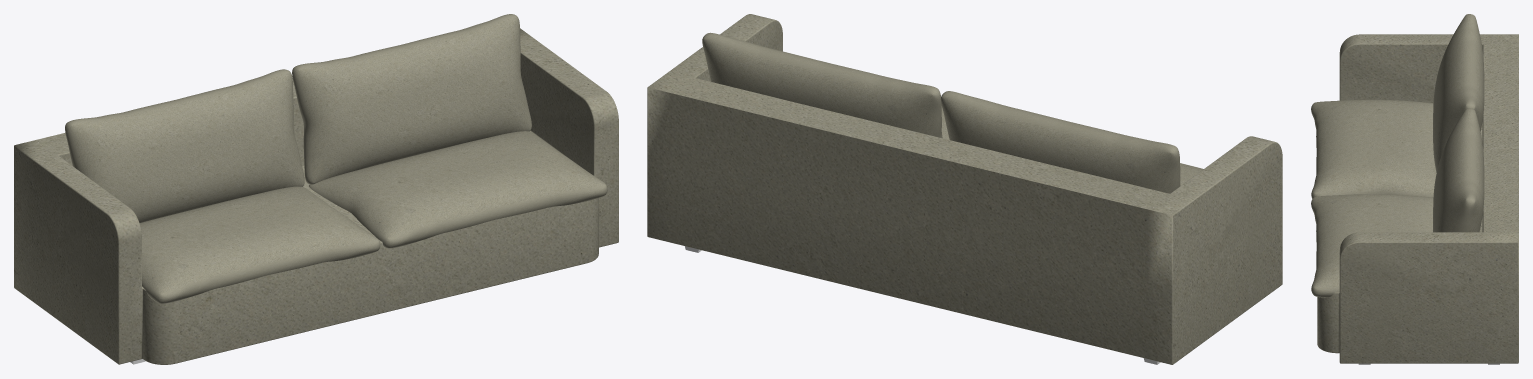
File: modern_sofa_3d.glb
3 renders of one model, left to right at view 1: azimuth 30°, elevation 25°; view 2: azimuth 150°, elevation 25°; view 3: azimuth 270°, elevation 25°, orthographic. The views are drawn at different scales.
Parts seen in each view (by area): view 1: Cube, Cube.003, Cube.002, Cube.005, Cube.004; view 2: Cube, Cube.003, Cube.002; view 3: Cube, Cube.004, Cube.005, Cube.003, Cube.002.
Boxes of the visible parts, x1,y1,x2,y2 form: Cube: (14,28,618,364); Cube.003: (292,14,531,184); Cube.002: (65,69,304,222); Cube.005: (309,131,607,248); Cube.004: (139,186,380,303); Cube: (647,14,1282,364); Cube.003: (702,32,942,138); Cube.002: (940,91,1180,193); Cube: (1317,34,1518,363); Cube.004: (1311,99,1436,198); Cube.005: (1311,194,1433,297); Cube.003: (1433,108,1484,232); Cube.002: (1433,14,1484,172).
Size of the model in its own units: 2.2 by 0.8171 by 0.928.
Materials: 2 (1 with a texture image).
